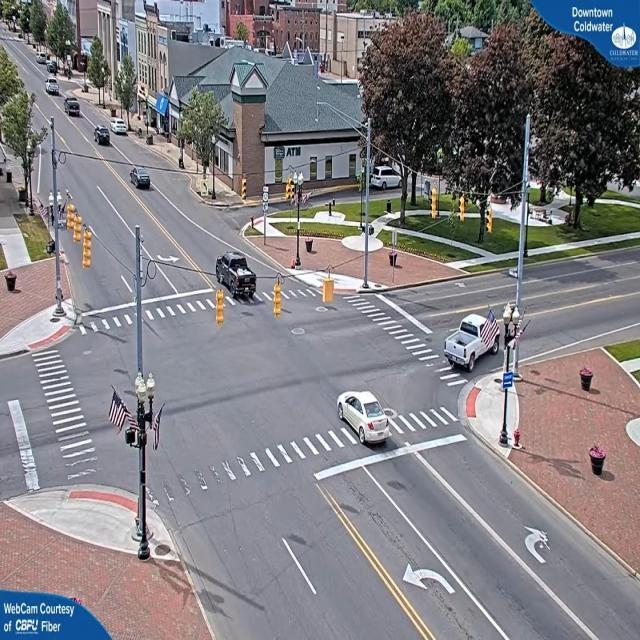car: (444, 314, 506, 373), (338, 390, 389, 445), (216, 253, 256, 302), (129, 167, 151, 190), (94, 128, 111, 146), (112, 118, 129, 136), (64, 97, 80, 116), (46, 80, 62, 96)
